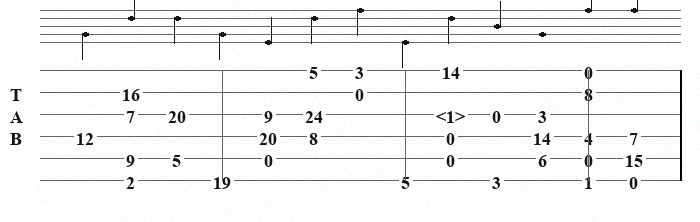0: (264, 150, 277, 166), (355, 84, 368, 100), (446, 150, 459, 166), (446, 128, 459, 144), (492, 106, 505, 122), (584, 62, 597, 78), (584, 150, 597, 166), (629, 172, 642, 188)
1: (584, 172, 597, 188)
12: (76, 128, 98, 144)
14: (442, 62, 464, 78), (533, 128, 555, 144)
15: (625, 150, 647, 166)
16: (122, 84, 144, 100)
19: (213, 172, 235, 188)
2: (126, 172, 139, 188)
20: (168, 106, 190, 122), (259, 128, 281, 144)
24: (305, 106, 327, 122)
3: (355, 62, 368, 78), (492, 172, 505, 188), (538, 106, 551, 122)
4: (584, 128, 597, 144)
5: (172, 150, 185, 166), (309, 62, 322, 78), (401, 172, 414, 188)
6: (538, 150, 551, 166)
7: (126, 106, 139, 122), (629, 128, 642, 144)
8: (309, 128, 322, 144), (584, 84, 597, 100)
9: (126, 150, 139, 166), (264, 106, 277, 122)
harmonic: (436, 106, 469, 122)
